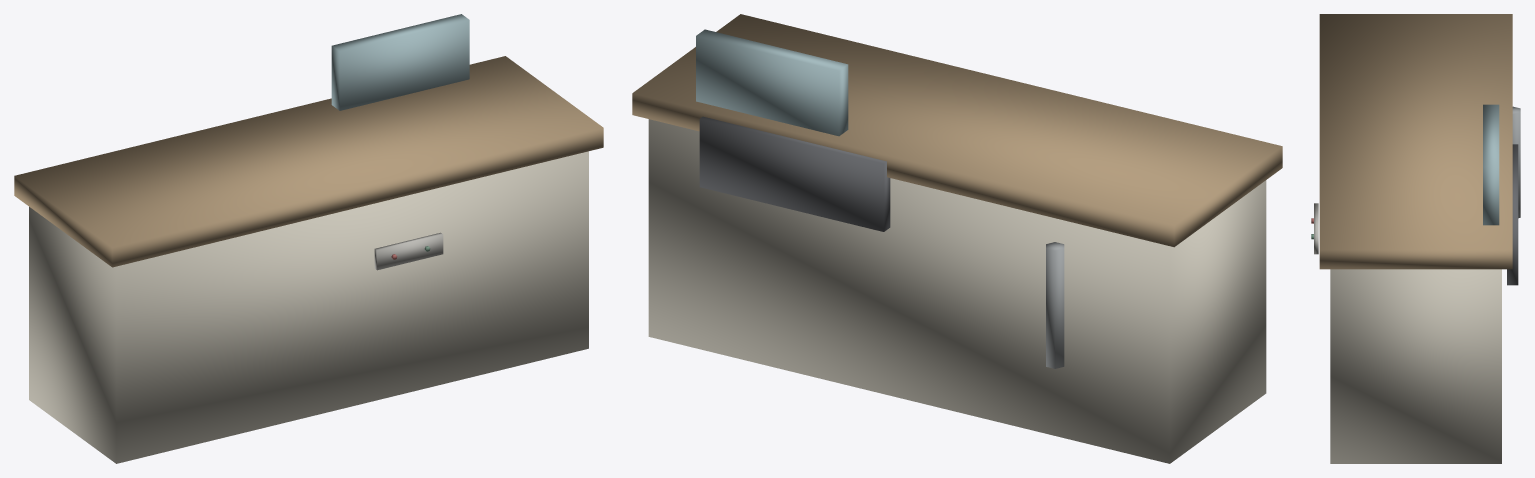
Rendered from pharmacy_pickup_counter__service.glb.
3 views of the same model, side by side, from view 1: azimuth 30°, elevation 25°; view 2: azimuth 150°, elevation 25°; view 3: azimuth 270°, elevation 25° (orthographic). The views are drawn at different scales.
Visible parts, largest first — view 1: world; view 2: world; view 3: world.
Boxes of the visible parts, <box> form: world: <box>14,14,603,463</box>; world: <box>632,14,1282,463</box>; world: <box>1311,14,1520,463</box>.
Bounding box in the file's own units: 2.08 × 1.14 × 0.7813.
